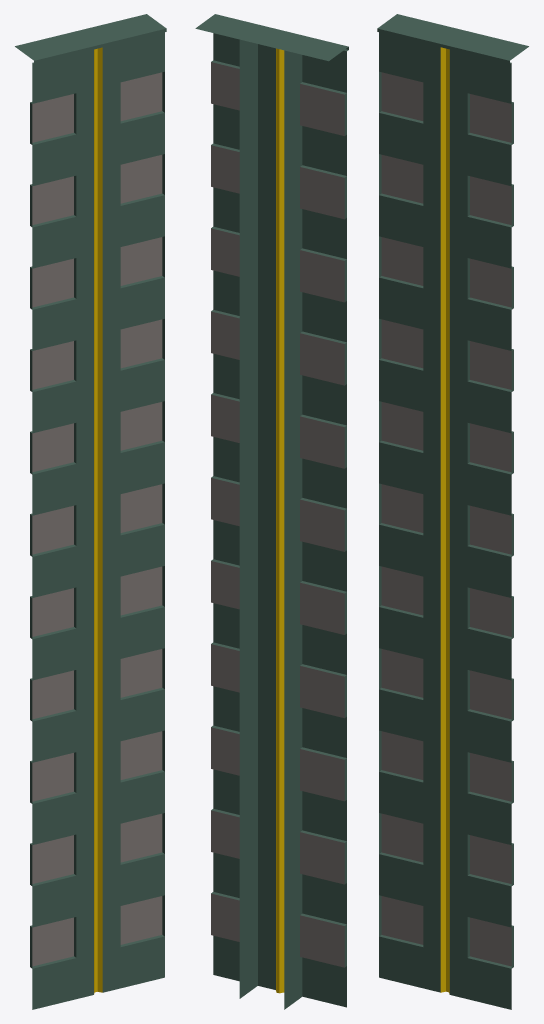
The picture shows the model from 3 angles, left to right: view 1: azimuth 30°, elevation 25°; view 2: azimuth 150°, elevation 25°; view 3: azimuth 330°, elevation 25°; orthographic projection.
Visible parts, largest first — view 1: Column.045; view 2: Column.045; view 3: Column.045.
Part boxes in pixels (bbox=[...]): Column.045: bbox=[15, 14, 166, 1009]; Column.045: bbox=[195, 14, 348, 1009]; Column.045: bbox=[377, 14, 528, 1009].
Bounding box in the file's own units: 835 × 5726 × 217.
